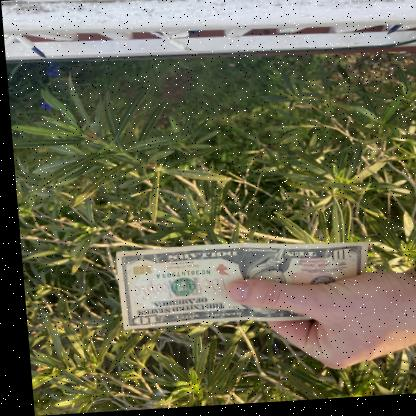ten-front: (115, 242, 367, 334)
